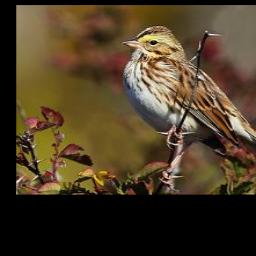Sparrow: (122, 24, 256, 168)
